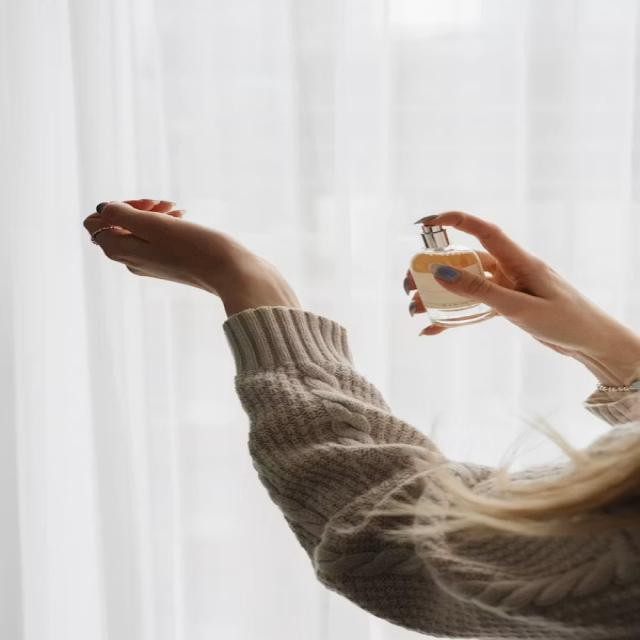Bottle: (410, 224, 497, 327)
